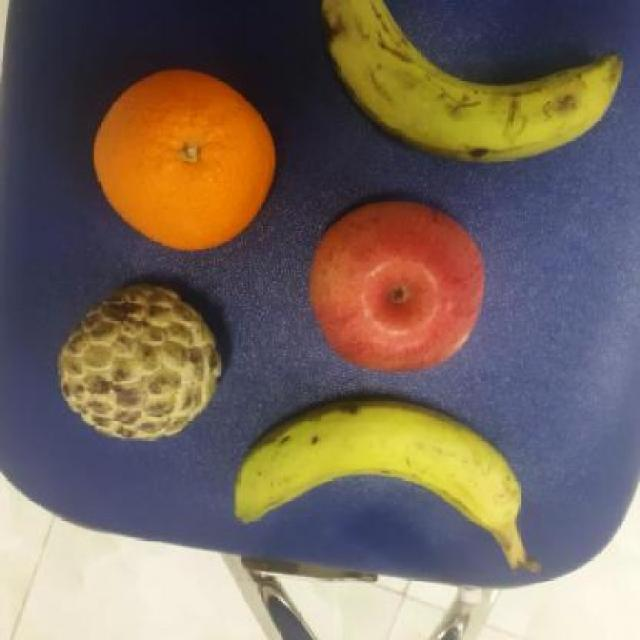apple: (308, 198, 489, 374)
banana: (312, 0, 623, 171), (228, 393, 528, 542)
oren: (90, 64, 282, 256)
sugar apple: (52, 280, 232, 446)
